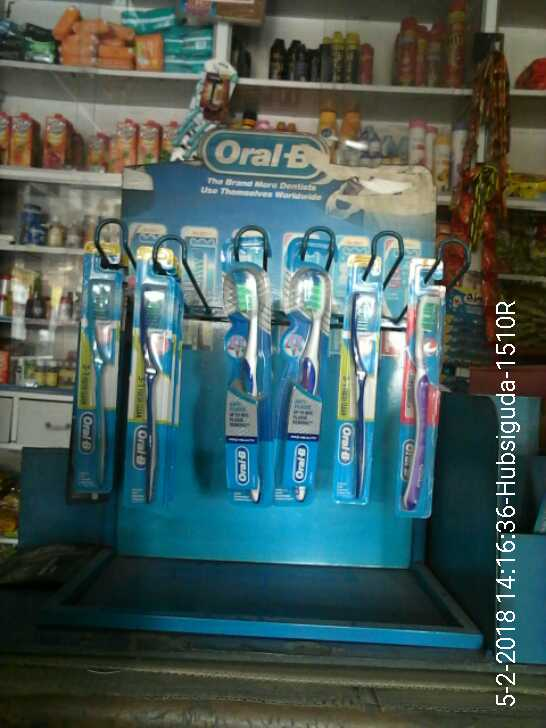oralb: (210, 261, 267, 493), (406, 278, 457, 523), (131, 275, 179, 511), (290, 262, 336, 505), (67, 249, 110, 499), (345, 278, 387, 505)
